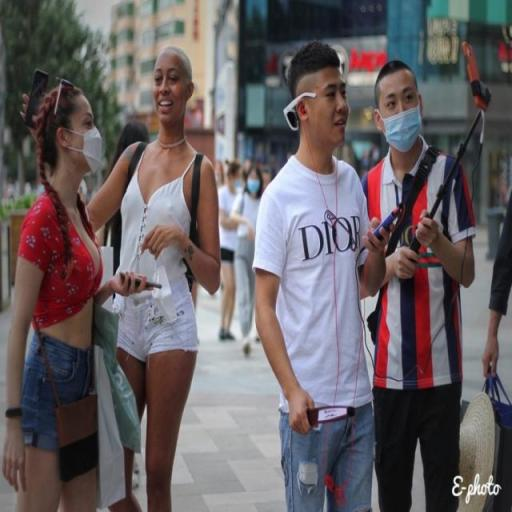person: (88, 43, 222, 512), (253, 41, 374, 512), (363, 56, 476, 512), (1, 79, 104, 512), (231, 166, 267, 359), (214, 157, 238, 343)
